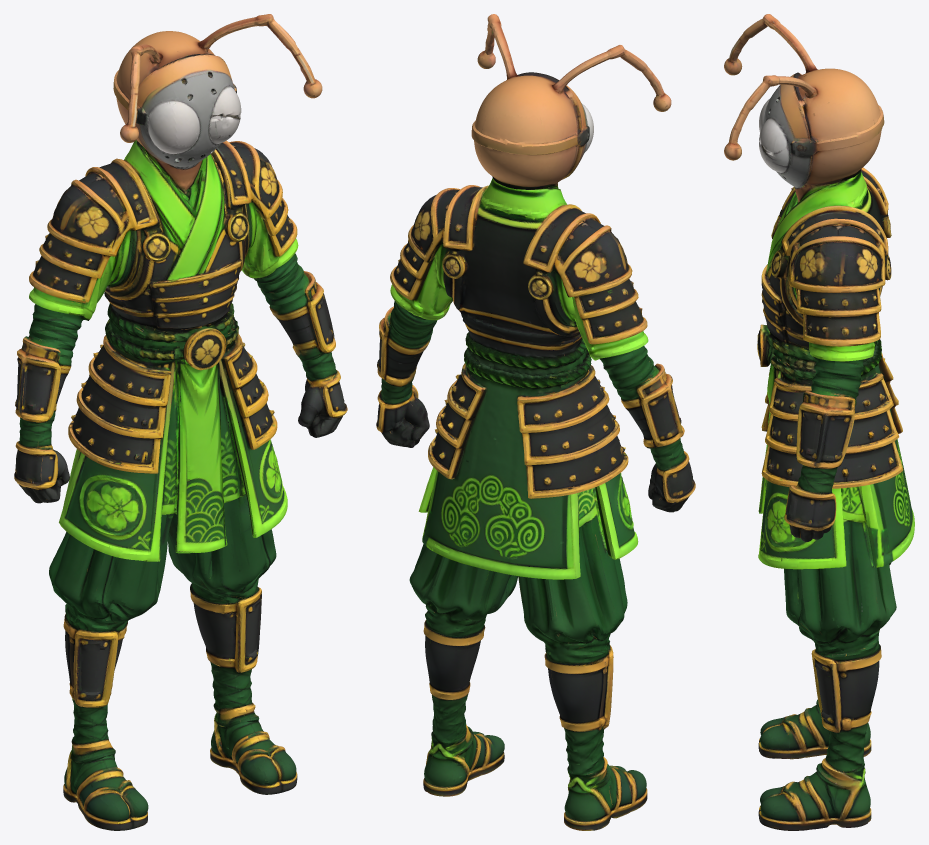
The model's file is rebel_4998_static_source_shogun_v5c4v_q1.glb.
3 views of the same model, side by side, from view 1: azimuth 30°, elevation 25°; view 2: azimuth 150°, elevation 25°; view 3: azimuth 270°, elevation 25° (orthographic). The views are drawn at different scales.
Visible parts, largest first — view 1: Mesh_0; view 2: Mesh_0; view 3: Mesh_0.
Part boxes in pixels (left/top/right/bottom): Mesh_0: left=14, top=14, right=347, bottom=830; Mesh_0: left=376, top=14, right=695, bottom=830; Mesh_0: left=724, top=14, right=914, bottom=830.
Size of the model in its own units: 0.8288 by 1.9 by 0.4438.
Materials: 1 (1 with a texture image).
